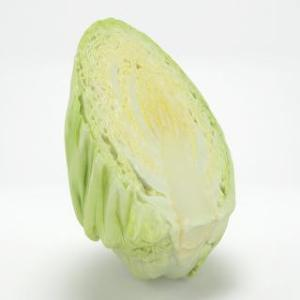cabbage: (64, 13, 238, 283)
